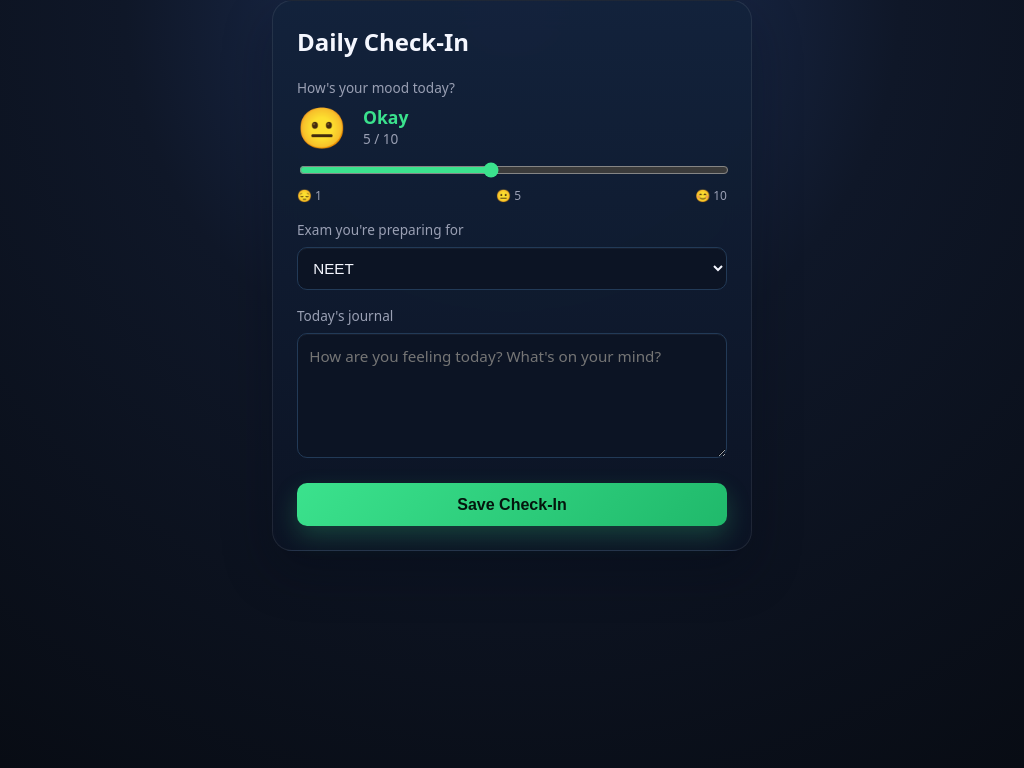
Scenario: MoodLogger › updates the mood face band as the slider changes
Set the slider to "2". click: (353, 170)
box: [299,162,729,178]
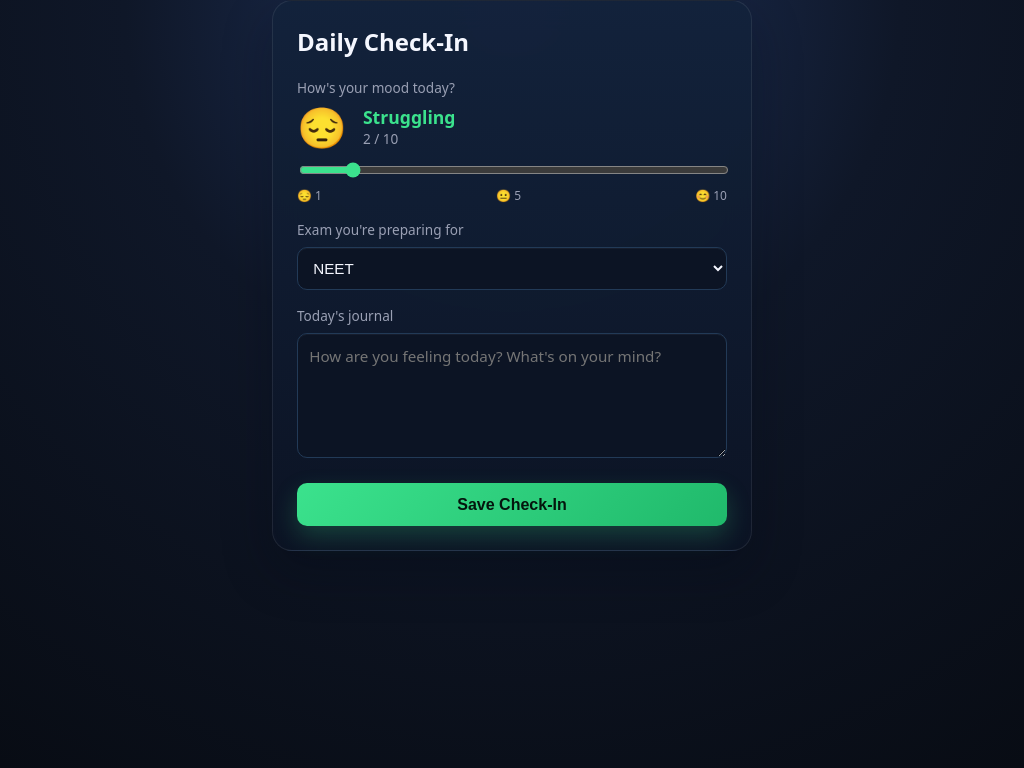
Expected: the text "Struggling" is shown, [363,105,456,129]
Set the slider to "9". click: (675, 170)
box: [299,162,729,178]
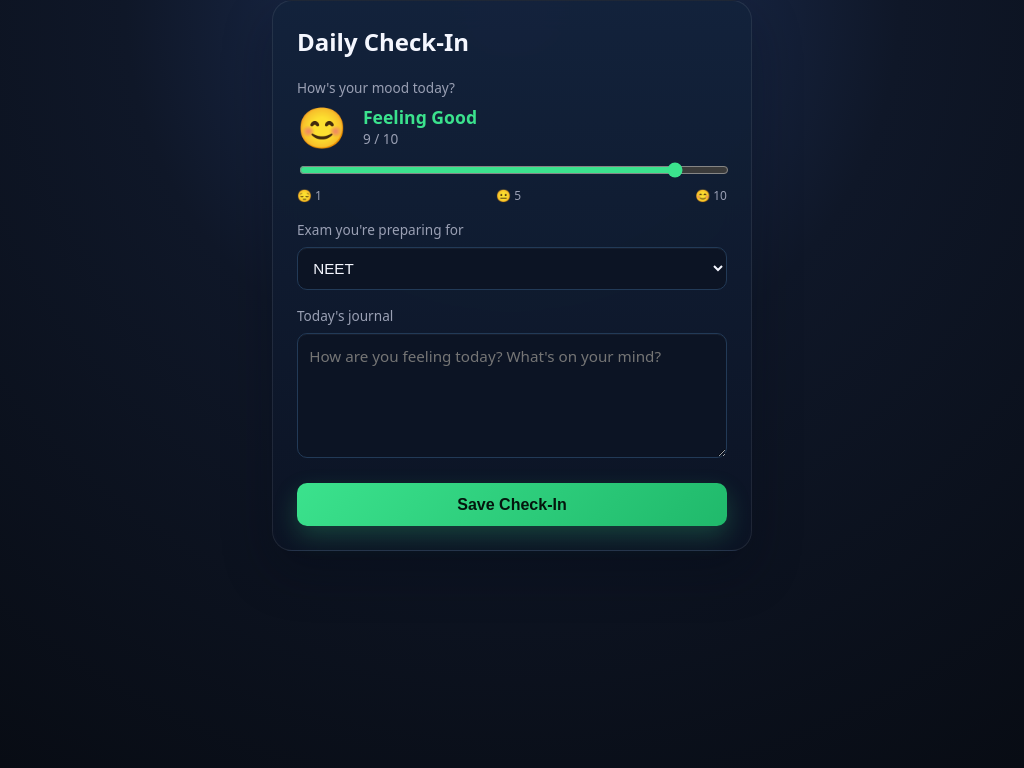
Expected: the text "Feeling Good" is shown, [363,105,477,129]
